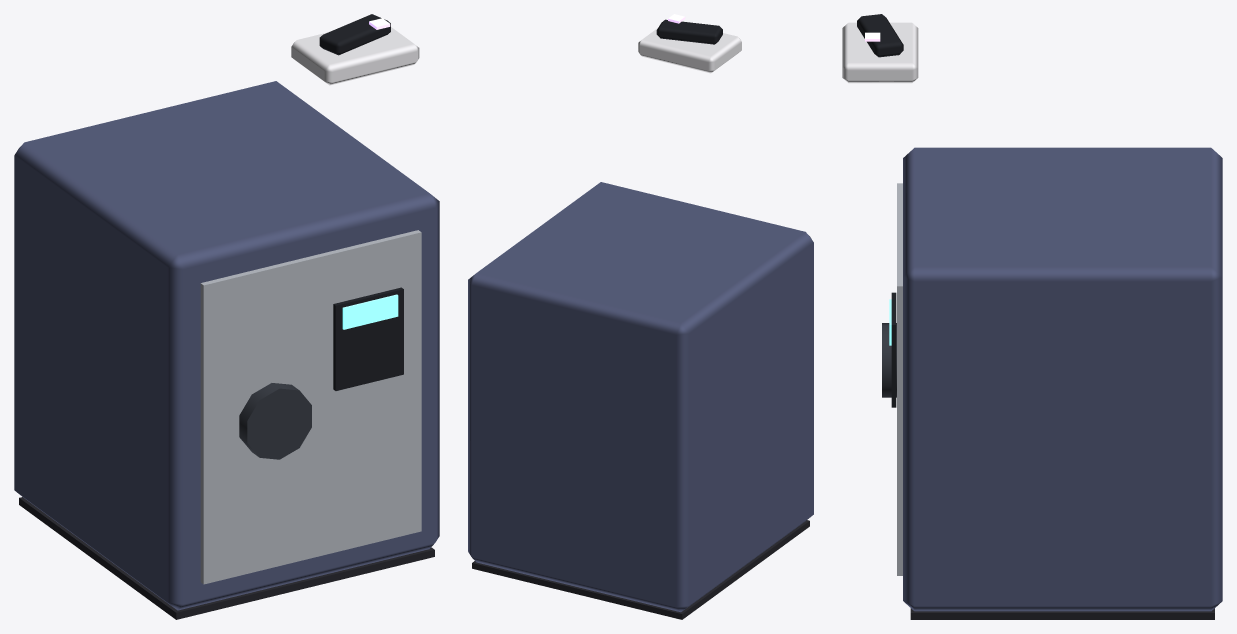
File: station_processing_ausstattung_2_3.glb
The picture shows the model from 3 angles, left to right: view 1: azimuth 30°, elevation 25°; view 2: azimuth 150°, elevation 25°; view 3: azimuth 270°, elevation 25°; orthographic projection. The views are drawn at different scales.
Parts seen in each view (by area): view 1: station_processing_ausstattung_2_3; view 2: station_processing_ausstattung_2_3; view 3: station_processing_ausstattung_2_3.
Boxes of the visible parts, box(x1,y1,x2,y2) form: station_processing_ausstattung_2_3: box(14, 14, 439, 619); station_processing_ausstattung_2_3: box(468, 14, 813, 619); station_processing_ausstattung_2_3: box(842, 14, 1222, 619).
Size of the model in its own units: 0.4 by 0.796 by 0.5.
